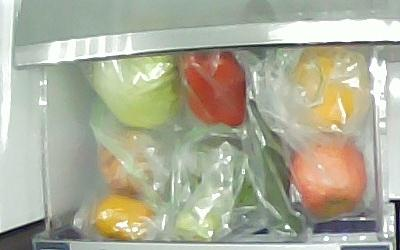apple_vinyl: (292, 139, 367, 217)
broccoli_vinyl: (175, 136, 260, 242)
cucumber_vinyl: (245, 50, 308, 242)
grapefruit_vinyl: (294, 47, 356, 128)
lettuce_vinyl: (91, 52, 179, 130)
paprika_vinyl: (182, 51, 246, 128)
peach_vinyl: (98, 132, 154, 200)
persimmon_vinyl: (93, 194, 154, 243)
